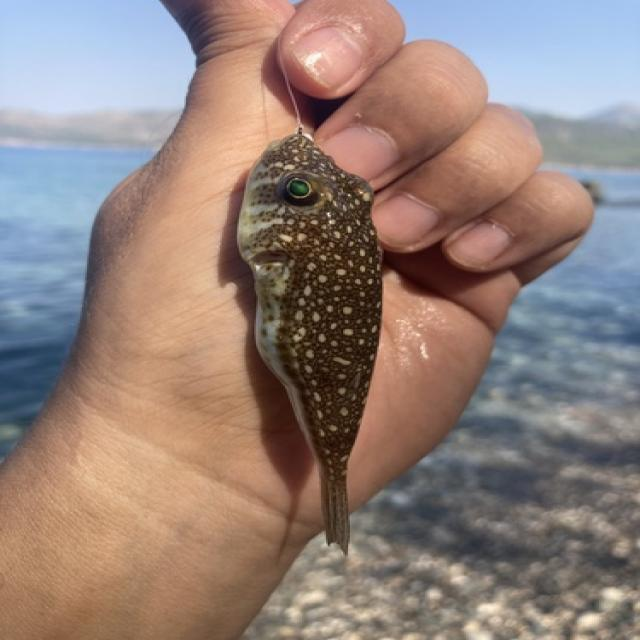Balik: (238, 132, 382, 554)
